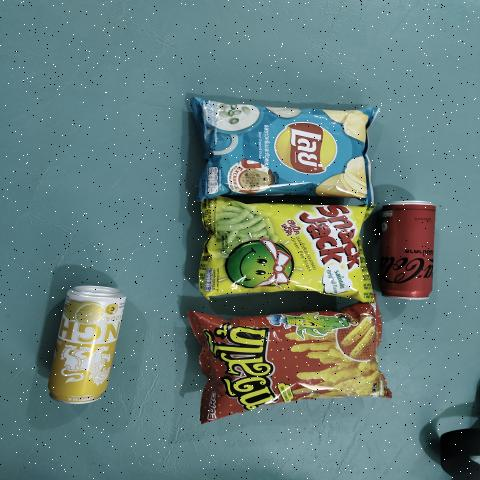coke_red: (385, 200, 432, 301)
lay_blue: (205, 100, 362, 194)
singha_yellow: (44, 288, 121, 408)
snack_jack: (213, 207, 366, 294)
twisco: (224, 316, 370, 402)
